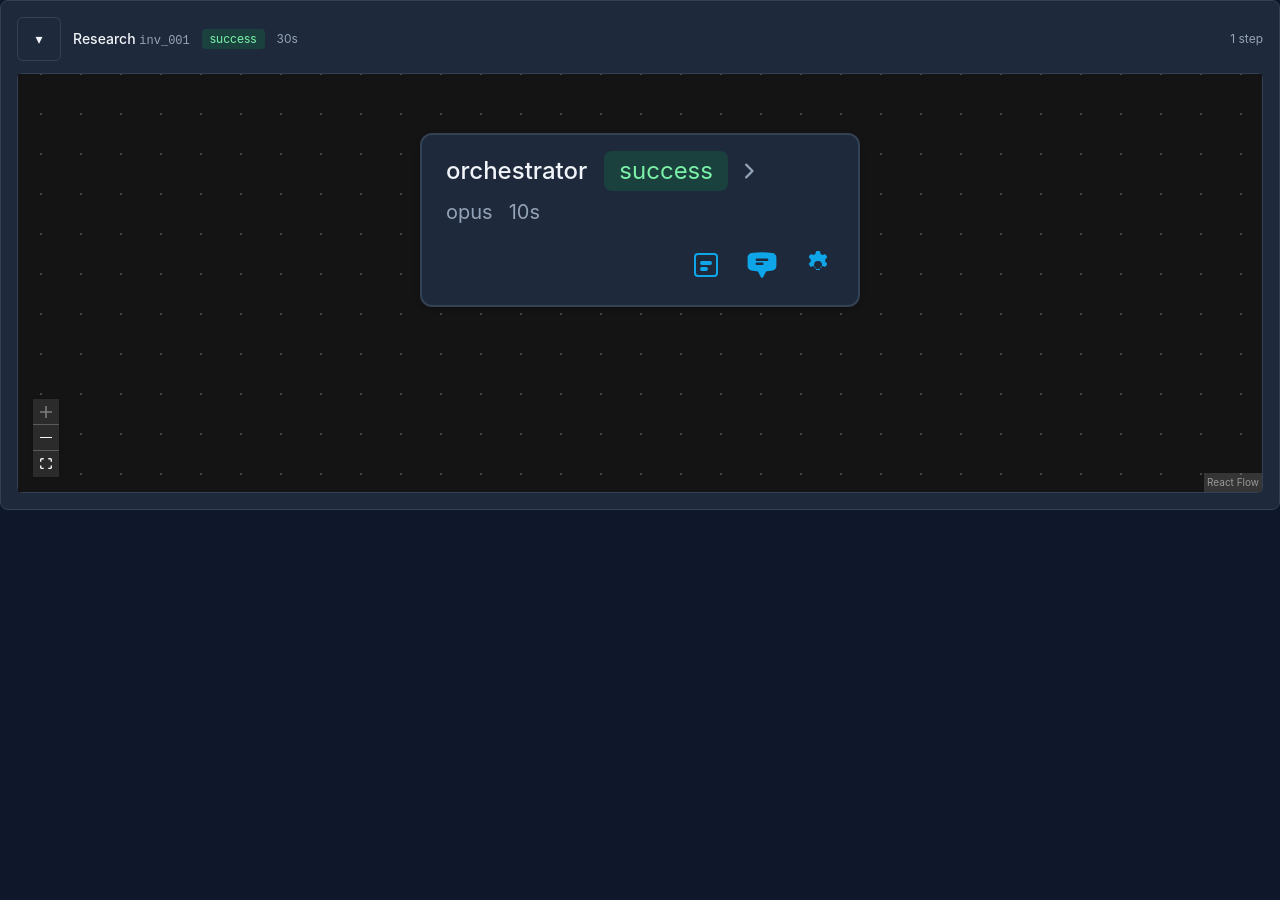
Test case: InvocationCard › clicking output icon opens NodeDetailModal
The width and height of the screenshot is (1280, 900).
Check: the element with test id "workflow-node-orchestrator" is shown, box 420,133 -> 860,308
Click the button with test id "icon-output" at {"x": 706, "y": 266}, box 682,242 -> 730,290
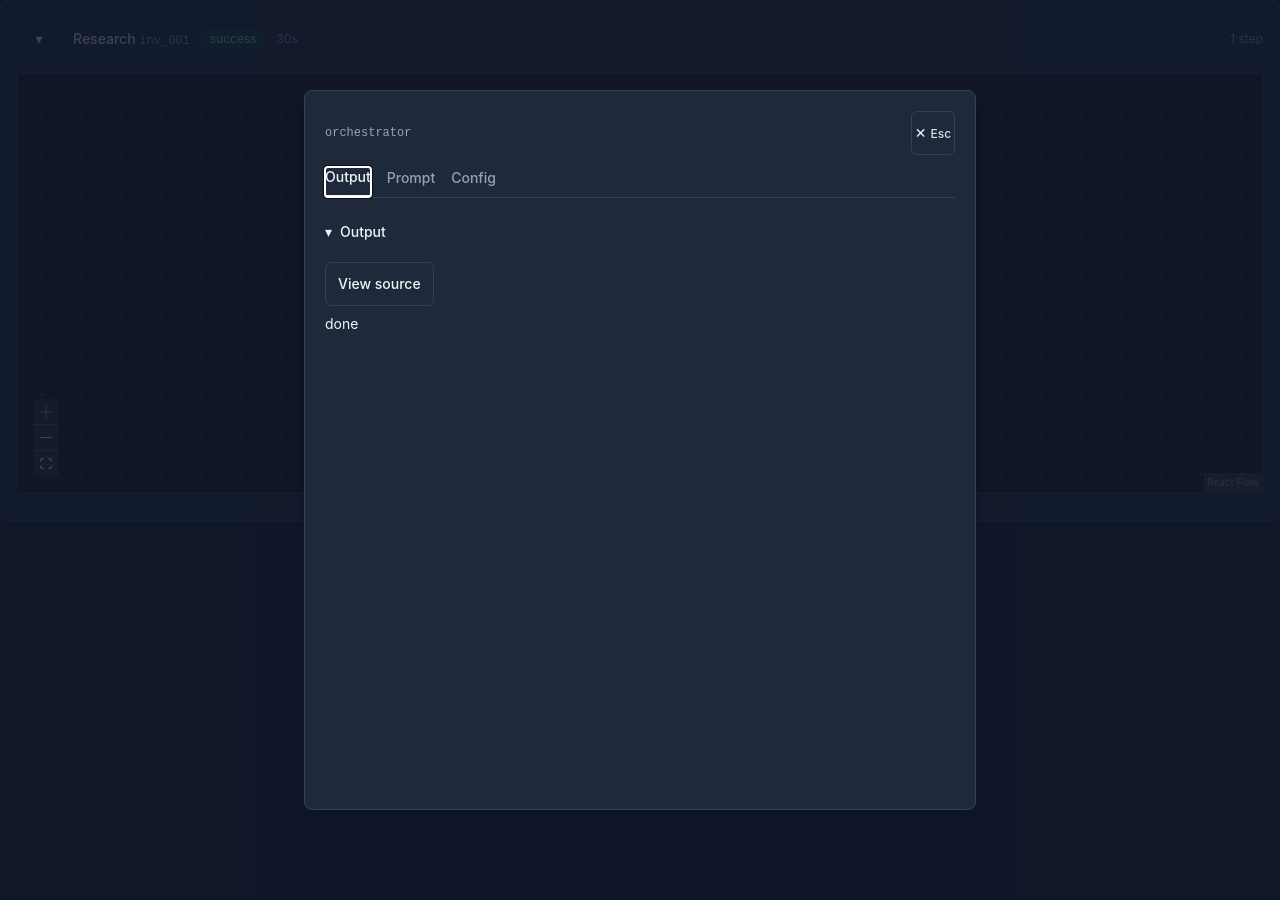
Check: the dialog with test id "node-detail-dialog" is shown, box 304,90 -> 976,810
